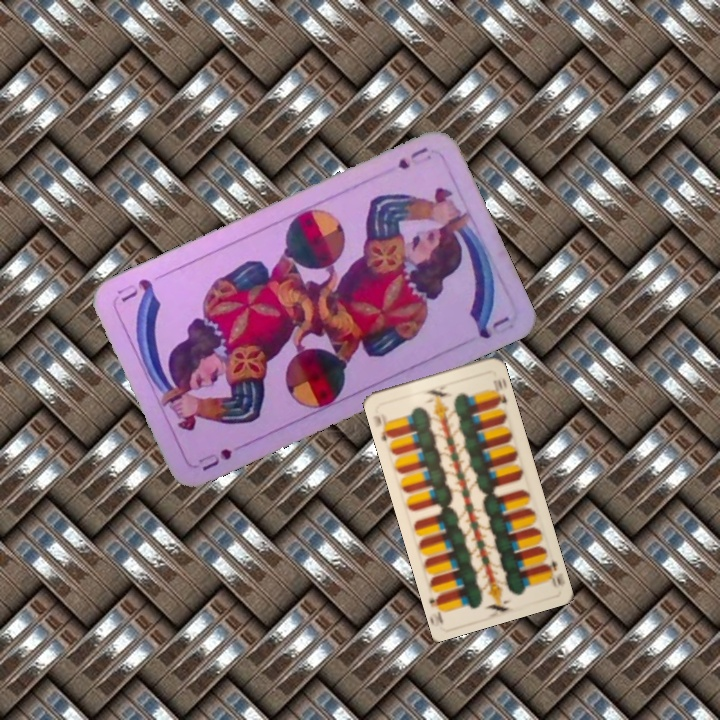E10: (540, 555, 566, 590), (370, 411, 396, 444)
SU: (194, 444, 235, 474), (394, 143, 431, 172)
